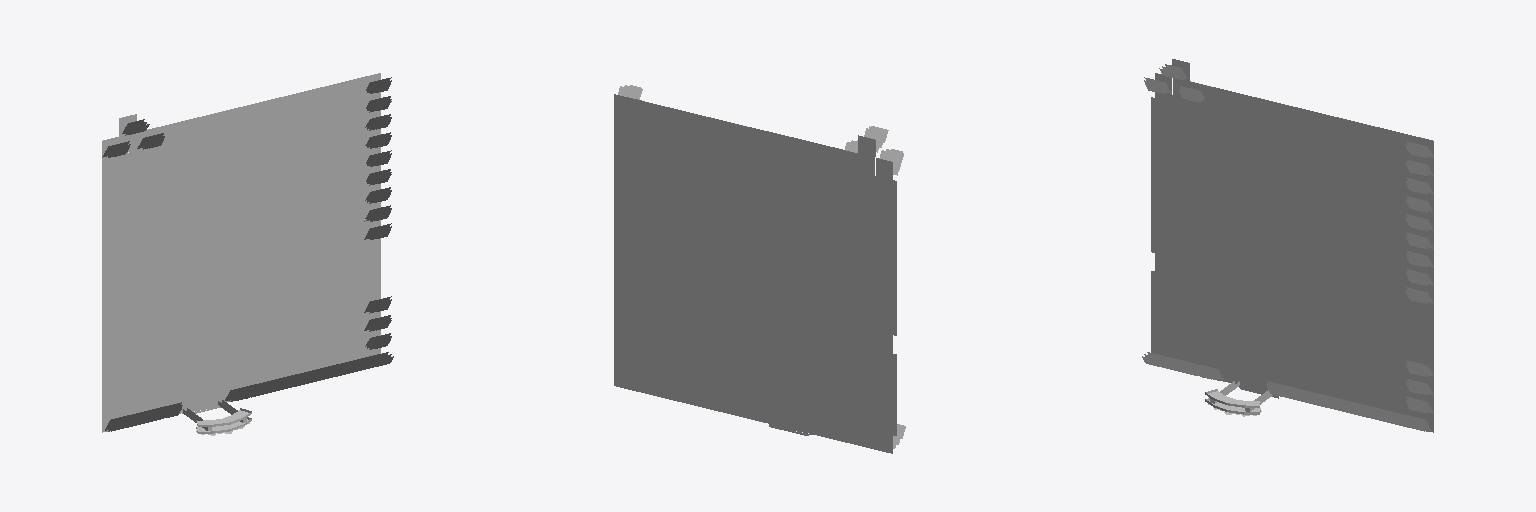
Rendered from Plat_full_04_14.obj.
The picture shows the model from 3 angles: view 1: azimuth 30°, elevation 25°; view 2: azimuth 150°, elevation 25°; view 3: azimuth 330°, elevation 25°; orthographic projection.
Parts seen in each view (by area): view 1: map; view 2: map; view 3: map.
Part boxes in pixels (x1,y1,x2,y2): map: (102, 73, 393, 435); map: (614, 85, 905, 453); map: (1142, 59, 1433, 432).
Bounding box in the file's own units: 32.5 × 34.62 × 5.8.